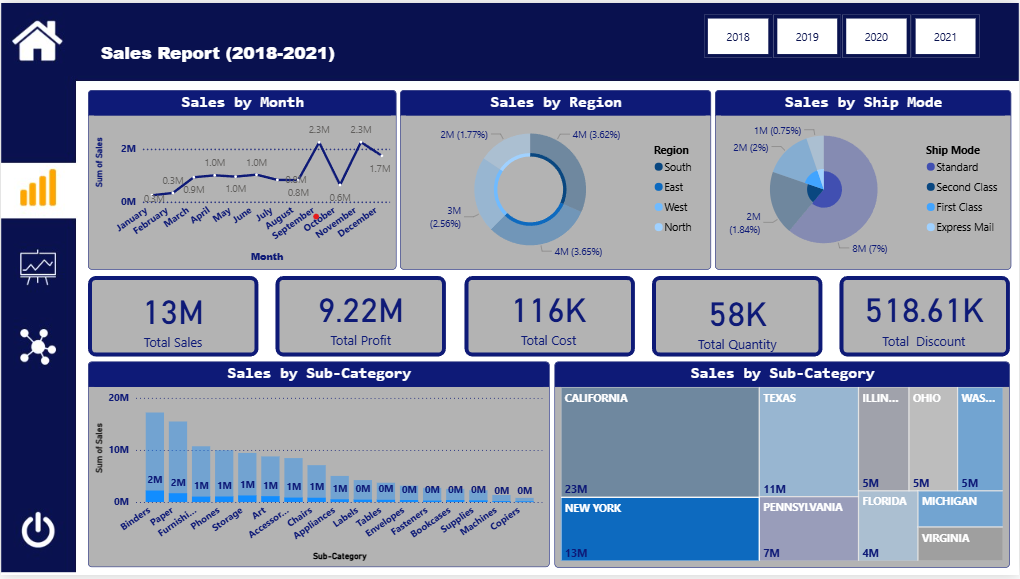

This screenshot's page, from the dashboard's own definition file:
{"tool":"powerbi","page":{"name":"📊 Sales Report","canvas":[1280,720],"ordinal":1},"visuals":[{"type":"textbox","box":[91,42.3,364.1,48.7],"z":0},{"type":"shape","box":[110.2,344.2,214.4,101.3],"z":0,"group":"g1"},{"type":"group","id":"g1","title":"Group 1","box":[110.2,344.2,1159.9,101.2],"z":1000},{"type":"lineChart","title":"Sales by Month","fields":{"Y":["Sum(Sales Data.Sales)"],"Category":["calender table.Date.Variation.Date Hierarchy.Month"]},"box":[110.2,110.2,388.1,226.1],"z":2000},{"type":"card","fields":{"Values":["Sum(Sales Data.Sales)"]},"box":[115.5,351.1,202.5,87.8],"z":2000,"group":"g1"},{"type":"donutChart","title":"Sales by Region","fields":{"Category":["Sales Data.Region"],"Y":["Sum(Sales Data.Sales)"]},"box":[502.3,110.2,391.5,226.1],"z":3000},{"type":"shape","box":[583.1,344.2,214.4,101.3],"z":3000,"group":"g1"},{"type":"donutChart","title":"Sales by Ship Mode","fields":{"Category":["Sales Data.Ship Mode"],"Y":["Sum(Sales Data.Sales)"]},"box":[897.6,109.5,372.6,226.2],"z":4000},{"type":"shape","box":[1056.1,344.2,214.4,101.3],"z":4000,"group":"g1"},{"type":"shape","box":[346.7,344.2,214.4,101.3],"z":5000,"group":"g1"},{"type":"columnChart","title":"Sales by Sub-Category","fields":{"Category":["Sales Data.Sub-Category"],"Y":["Sum(Sales Data.Sales)"]},"box":[110.2,450,580.5,258.8],"z":5000},{"type":"shape","box":[819.6,344.2,214.4,101.3],"z":6000,"group":"g1"},{"type":"treemap","title":"Sales by Sub-Category","fields":{"Group":["Sales Data.State"],"Values":["Sum(Sales Data.Sales)"]},"box":[696.7,450.1,572.6,259.3],"z":6000},{"type":"slicer","fields":{"Values":["Sales Data.Ship Date.Variation.Date Hierarchy.Year"]},"box":[858.4,7.9,396,68.6],"z":7000},{"type":"card","fields":{"Values":["Sum(Sales Data.Quantity)"]},"box":[819.6,349.3,214.4,96.2],"z":7000,"group":"g1"},{"type":"card","fields":{"Values":["Sum(Sales Data.Cost)"]},"box":[587,348,204,91],"z":8000,"group":"g1"},{"type":"shape","box":[9.1,625.8,71.4,72.6],"z":8000},{"type":"shape","box":[0,311.6,91.1,48.4],"z":9000},{"type":"card","fields":{"Values":["Sum(Sales Data.Profit)"]},"box":[346.7,348,214.4,91],"z":9000,"group":"g1"},{"type":"shape","box":[6.8,16.9,84.4,74.2],"z":10000},{"type":"card","fields":{"Values":["Sum(Sales Data.Discount)"]},"box":[1053.7,349.5,216,87.8],"z":10000,"group":"g1"},{"type":"shape","box":[3.4,397.1,84.4,64.1],"z":11000}]}

Visuals, with their boxes in screenshot pixels (x1, y1, x2, y2), scaled from the page's 1280x720 canvas onto the 1020x579 screenshot:
textbox: 73/34/363/73
shape: 88/277/259/358
"Group 1" group: 88/277/1012/358
"Sales by Month" lineChart: 88/89/397/270
card - Sum(Sales Data.Sales): 92/282/253/353
"Sales by Region" donutChart: 400/89/712/270
shape: 465/277/636/358
"Sales by Ship Mode" donutChart: 715/88/1012/270
shape: 842/277/1012/358
shape: 276/277/447/358
"Sales by Sub-Category" columnChart: 88/362/550/570
shape: 653/277/824/358
"Sales by Sub-Category" treemap: 555/362/1011/570
slicer - Sales Data.Ship Date.Variation.Date Hierarchy.Year: 684/6/1000/62
card - Sum(Sales Data.Quantity): 653/281/824/358
card - Sum(Sales Data.Cost): 468/280/630/353
shape: 7/503/64/562
shape: 0/251/73/290
card - Sum(Sales Data.Profit): 276/280/447/353
shape: 5/14/73/73
card - Sum(Sales Data.Discount): 840/281/1012/352
shape: 3/319/70/371
